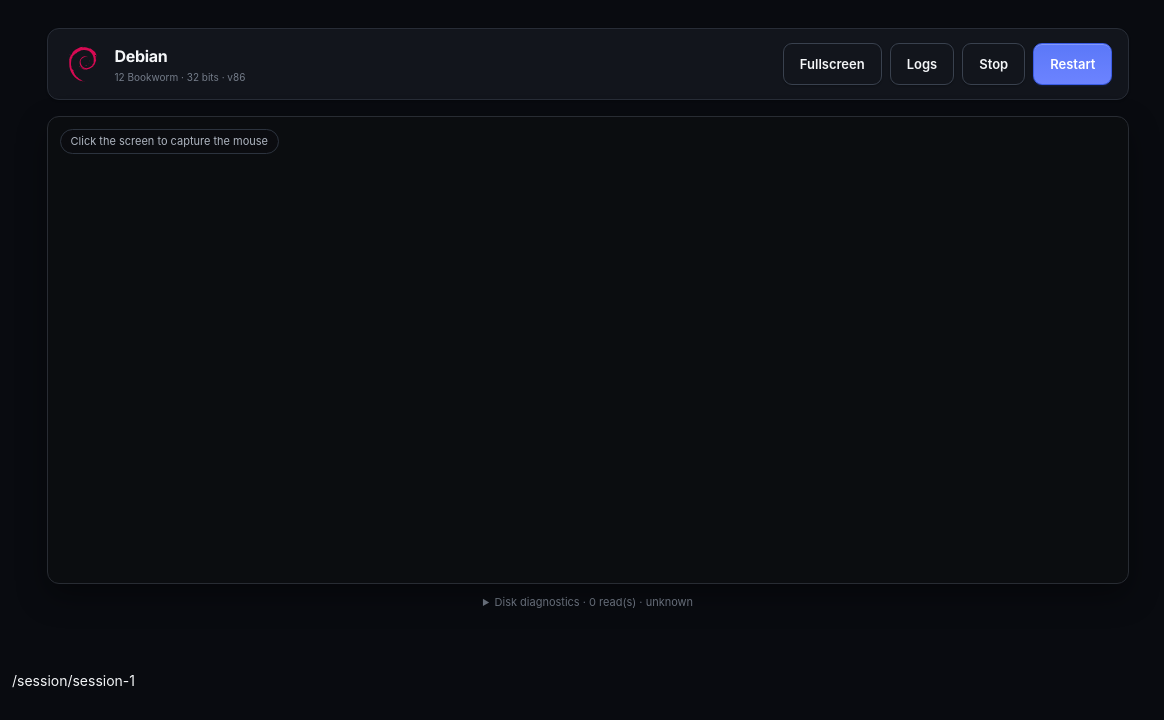
Test: SessionPage — restart › a stop failure shows the error and does not overwrite the current session
Click the button "Restart" at (1073, 64), box [1033,43,1112,85]
(page scrolled)
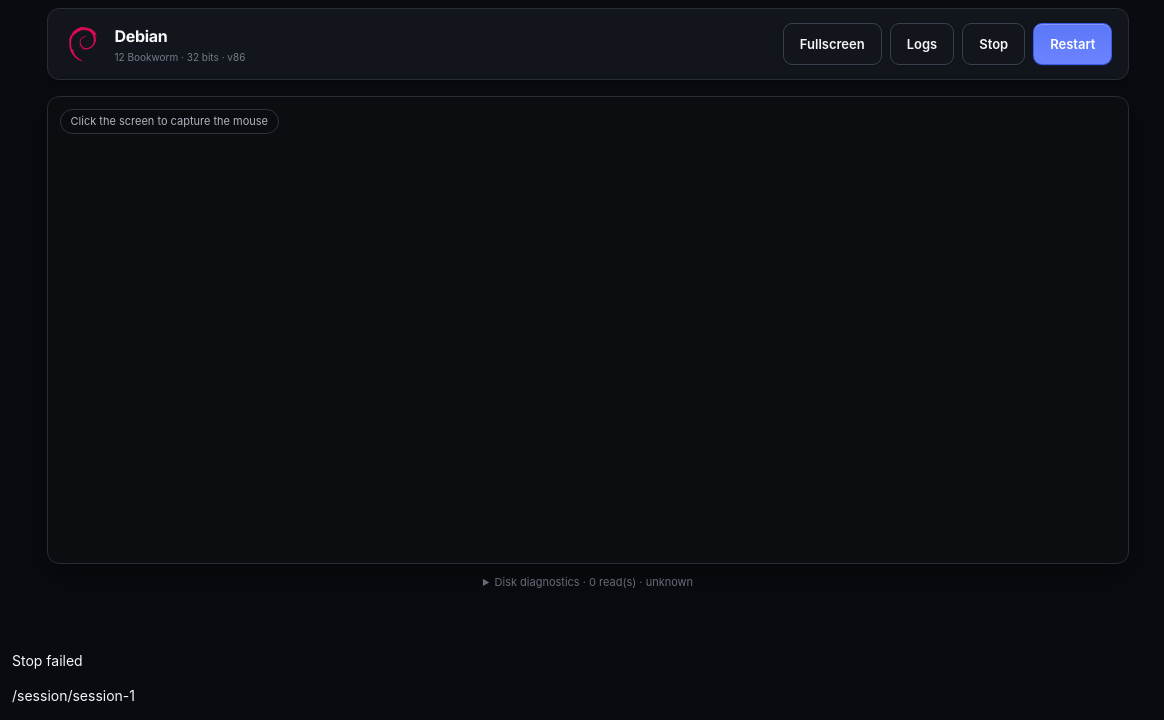
Expected: the text with test id "location" reads "/session/session-1", [12,687,135,704]
Result: the message reads "Stop failed" at [12,652,83,669]
